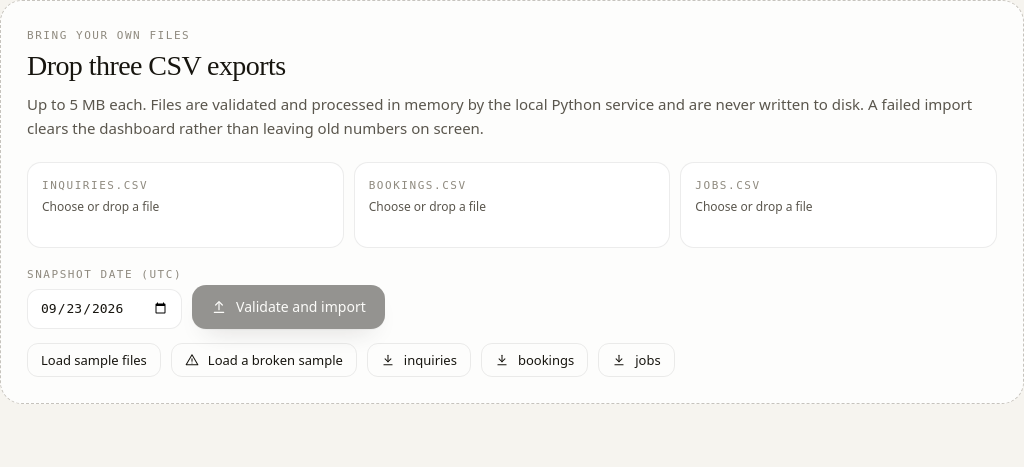
Test: reports sample download errors instead of an unhandled rejection
Click the button "Load sample files": (94, 360) [27, 343, 161, 377]
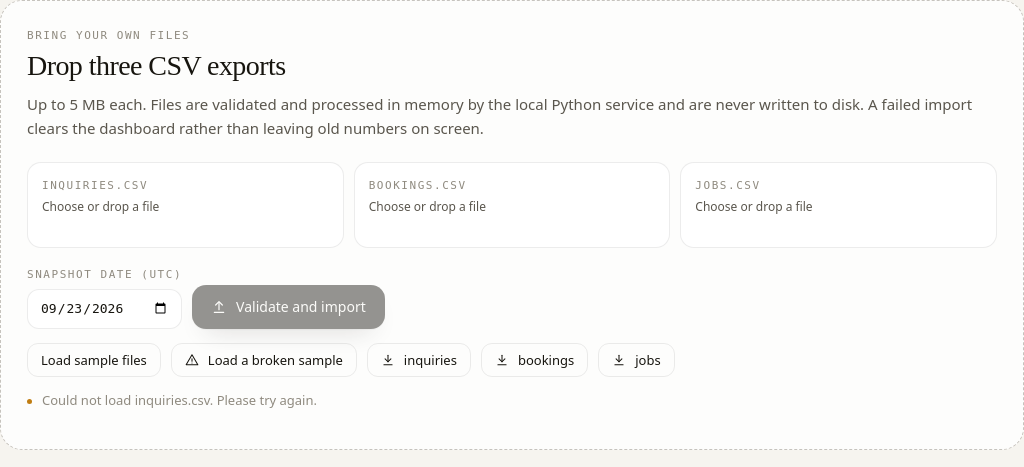
Result: the message shows "Could not load inquiries.csv" at [42, 391, 317, 409]
